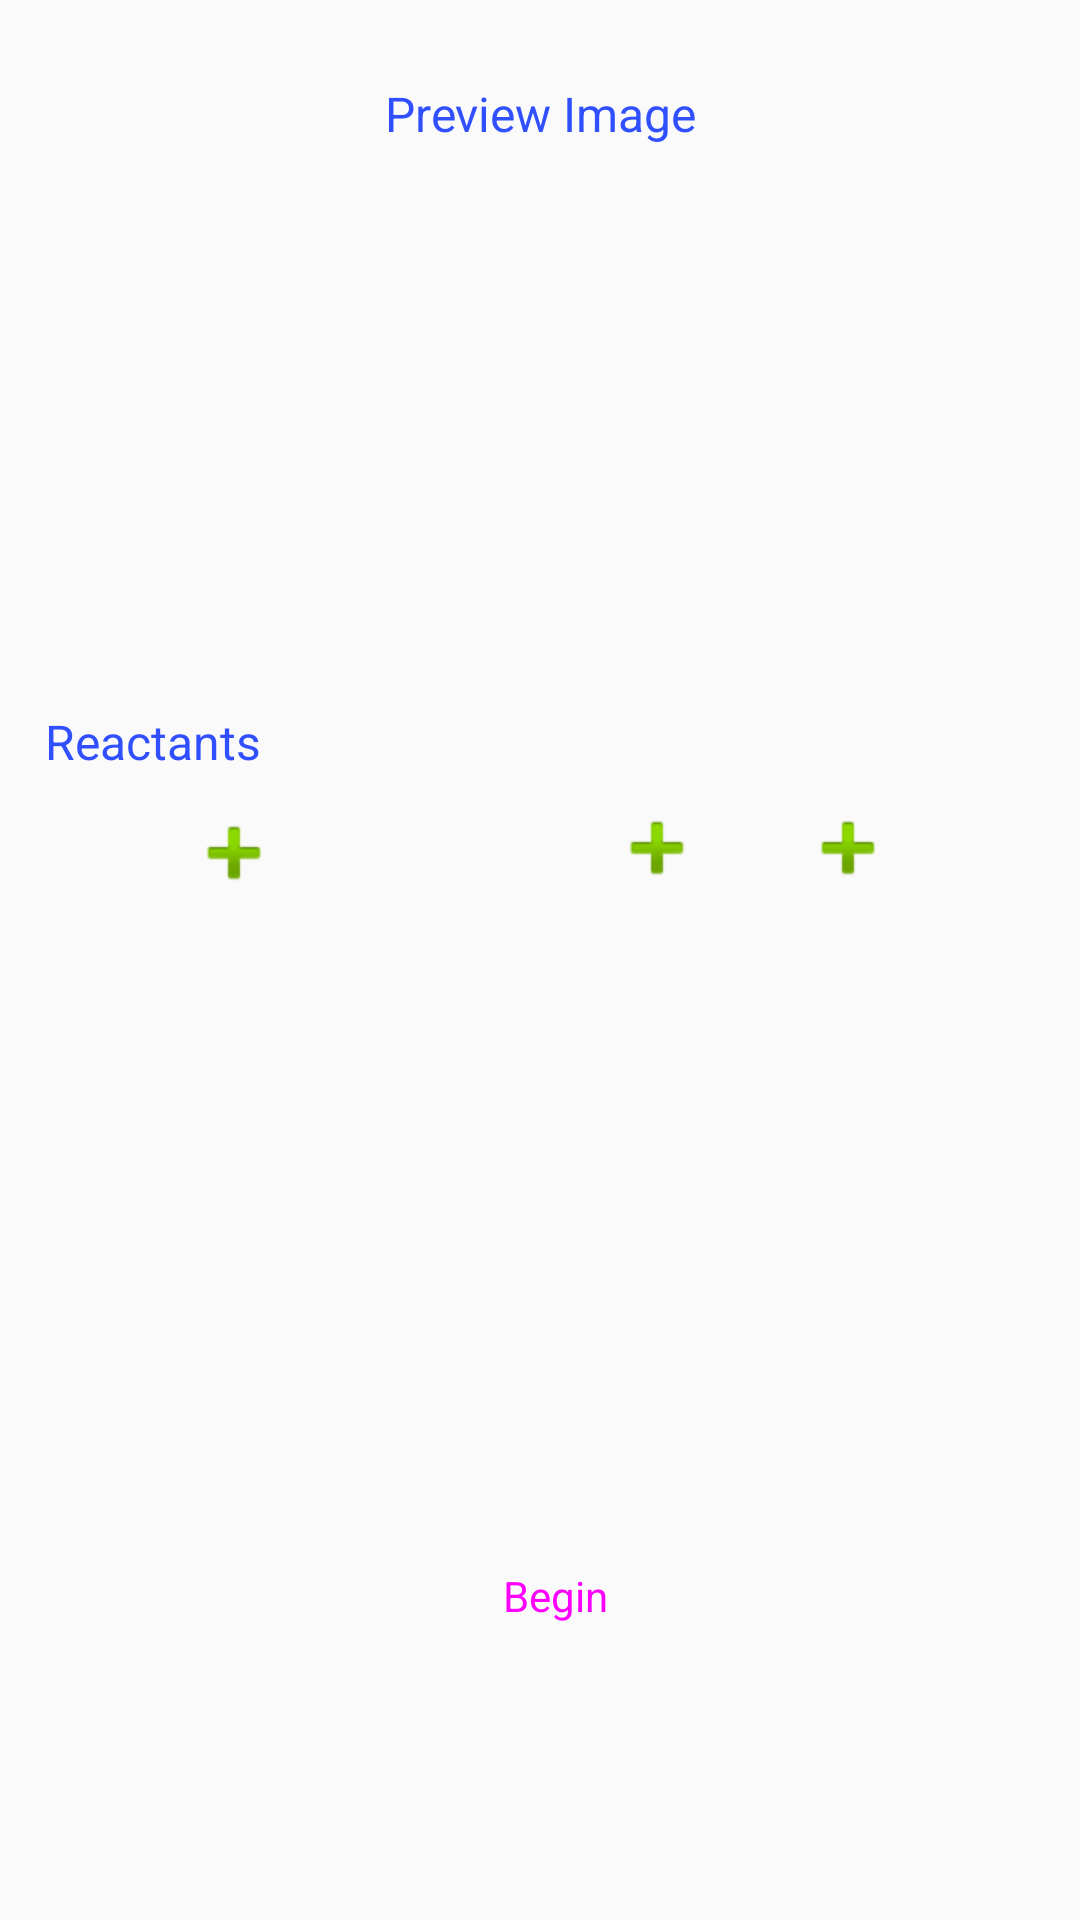

Named icons in this screenshot (1080px x 1920px) and their bounding boxes, (x1, y1, x2, y2):
add: (630, 821, 684, 875), (821, 821, 875, 875), (207, 826, 261, 880)
